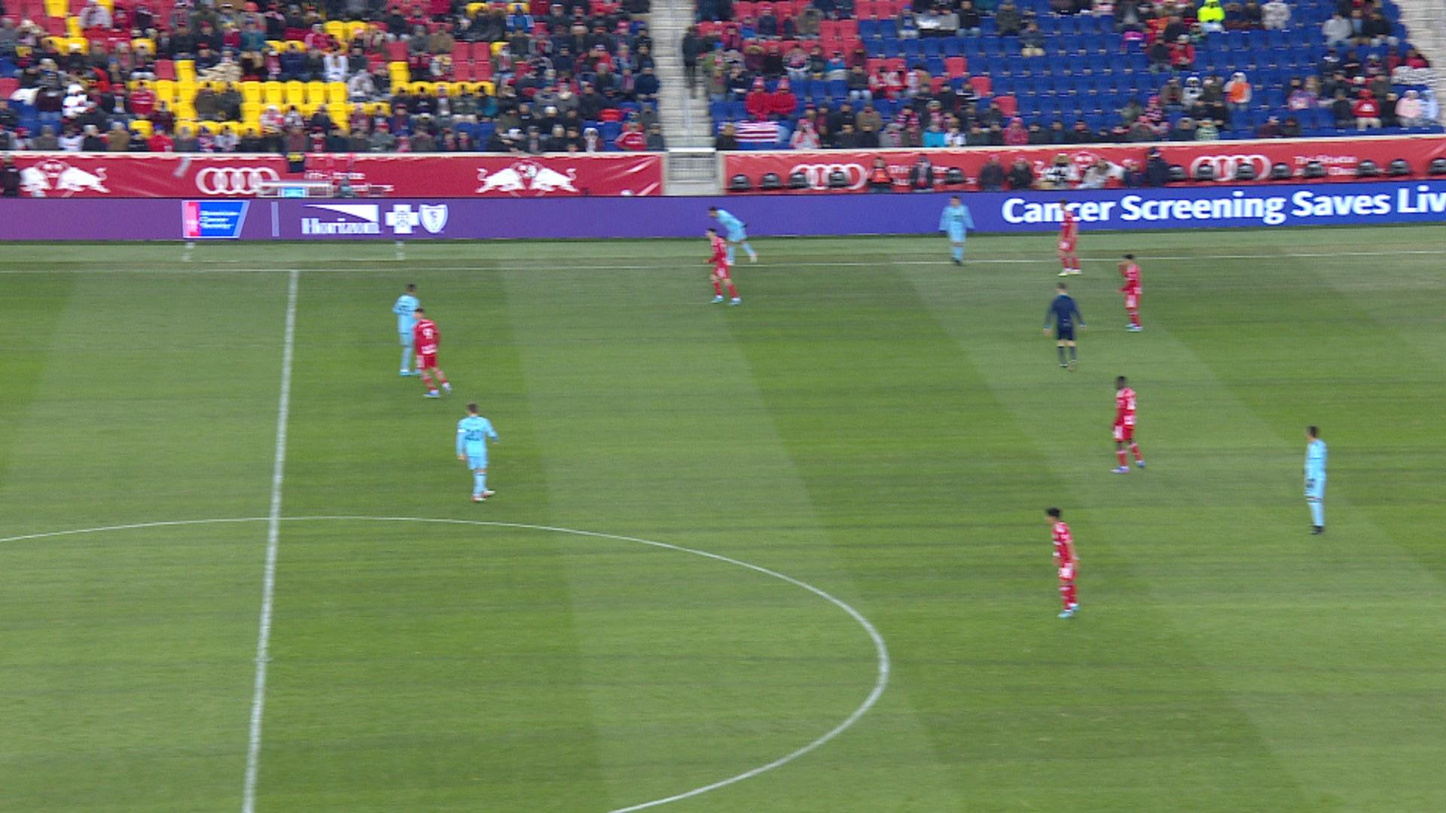Player: (456, 404, 499, 501), (1046, 508, 1080, 619), (413, 309, 453, 397), (1112, 376, 1146, 473), (708, 207, 758, 265), (704, 229, 741, 306), (1304, 426, 1328, 534), (939, 196, 975, 266), (393, 285, 419, 376), (1117, 255, 1142, 331), (1058, 200, 1080, 275)
referee: (1044, 283, 1086, 367)
